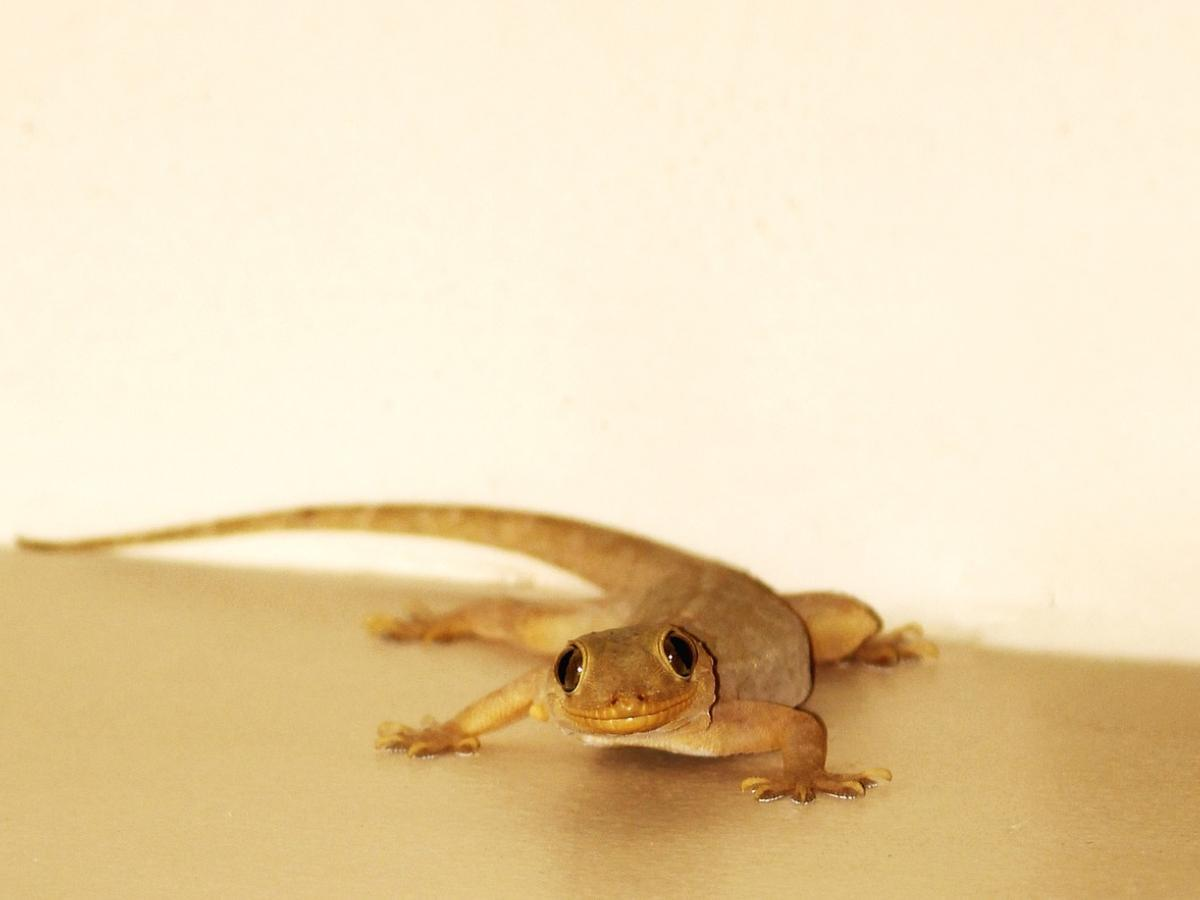lizard: (23, 493, 934, 808)
